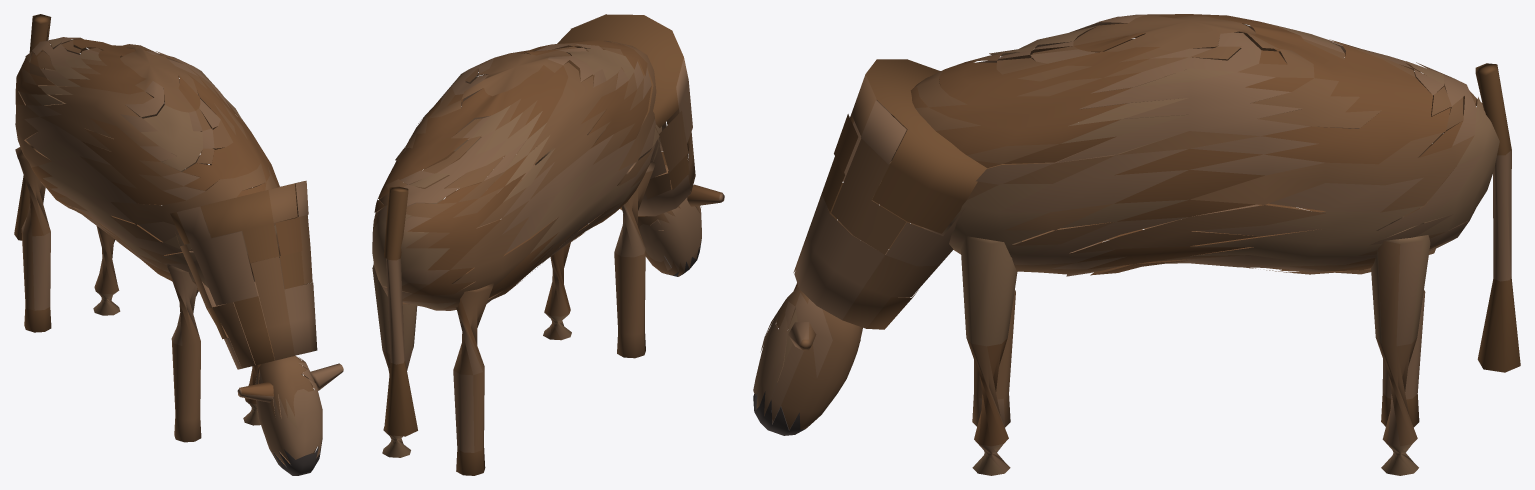
The model's file is animal.farm.cow_graze_1.glb.
3 renders of one model, left to right at view 1: azimuth 30°, elevation 25°; view 2: azimuth 150°, elevation 25°; view 3: azimuth 270°, elevation 25°, orthographic. The views are drawn at different scales.
Parts seen in each view (by area): view 1: main__fabric_753, main__fabric_754, main__fabric_743, main__fabric_764, main__fabric_643, main__fabric_864, main__fabric_642, main__fabric_433; view 2: main__fabric_753, main__fabric_754, main__fabric_743, main__fabric_764, main__fabric_643, main__fabric_864, main__fabric_642; view 3: main__fabric_753, main__fabric_754, main__fabric_743, main__fabric_764, main__fabric_643, main__fabric_642, main__fabric_864, main__fabric_433.
Boxes of the visible parts, x1,y1,x2,y2 form: main__fabric_753: (15, 37, 317, 464); main__fabric_754: (21, 37, 343, 456); main__fabric_743: (15, 39, 302, 403); main__fabric_764: (18, 38, 314, 429); main__fabric_643: (24, 21, 304, 365); main__fabric_864: (166, 253, 322, 465); main__fabric_642: (14, 14, 51, 240); main__fabric_433: (270, 441, 321, 475); main__fabric_753: (373, 40, 720, 452); main__fabric_754: (372, 14, 724, 452); main__fabric_743: (374, 40, 722, 472); main__fabric_764: (372, 48, 696, 457); main__fabric_643: (456, 14, 690, 475); main__fabric_864: (614, 158, 701, 271); main__fabric_642: (384, 186, 417, 436); main__fabric_753: (765, 14, 1476, 466); main__fabric_754: (771, 14, 1511, 472); main__fabric_743: (793, 14, 1477, 446); main__fabric_764: (760, 23, 1499, 475); main__fabric_643: (821, 59, 1484, 427); main__fabric_642: (1475, 63, 1520, 372); main__fabric_864: (753, 290, 1015, 416); main__fabric_433: (753, 384, 805, 435).
Bounding box in the file's own units: 0.7012 × 1.47 × 2.4.
